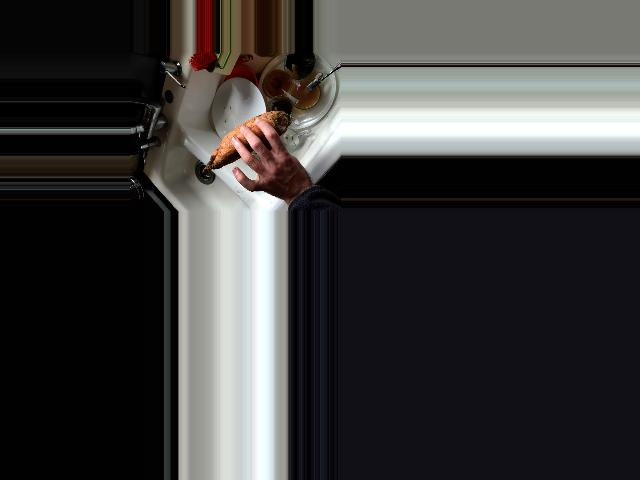sweet_potato: (201, 110, 289, 173)
